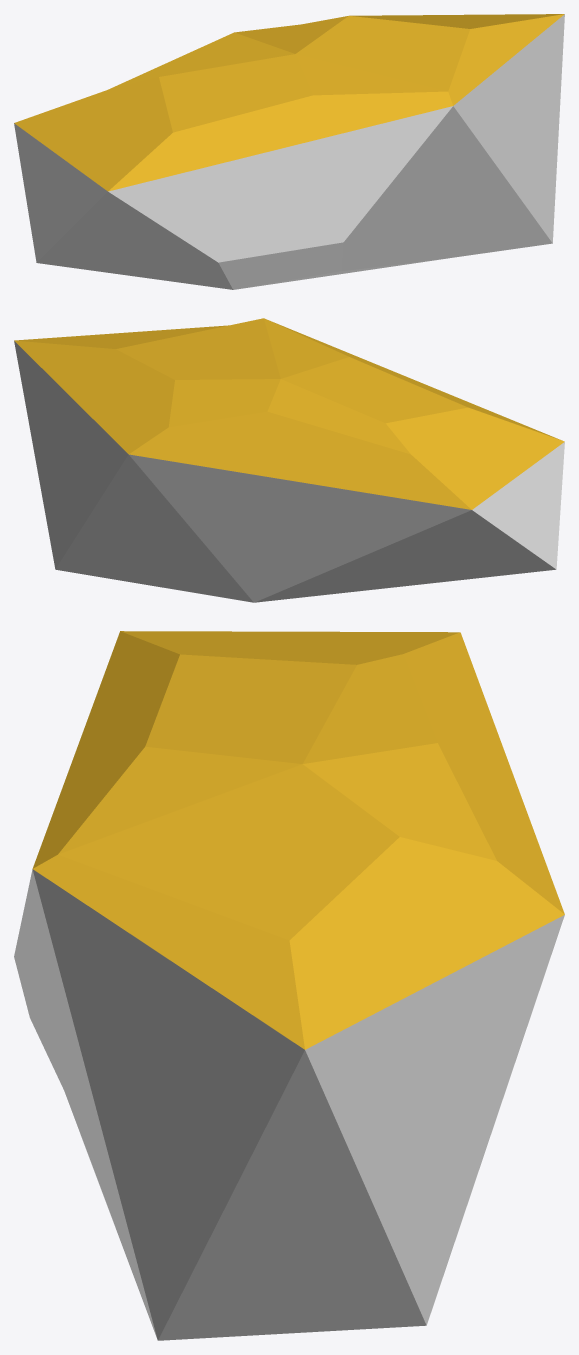
File: Floor1.fbx
The picture shows the model from 3 angles, top to bottom: view 1: azimuth 30°, elevation 25°; view 2: azimuth 150°, elevation 25°; view 3: azimuth 270°, elevation 25°; orthographic projection. The views are drawn at different scales.
Visible parts, largest first — view 1: Icosphere.001; view 2: Icosphere.001; view 3: Icosphere.001.
Part boxes in pixels (<box>): Icosphere.001: <box>14,14,564,289</box>; Icosphere.001: <box>14,318,564,602</box>; Icosphere.001: <box>14,631,564,1340</box>.
Size of the model in its own units: 3813 by 1459 by 1867.
